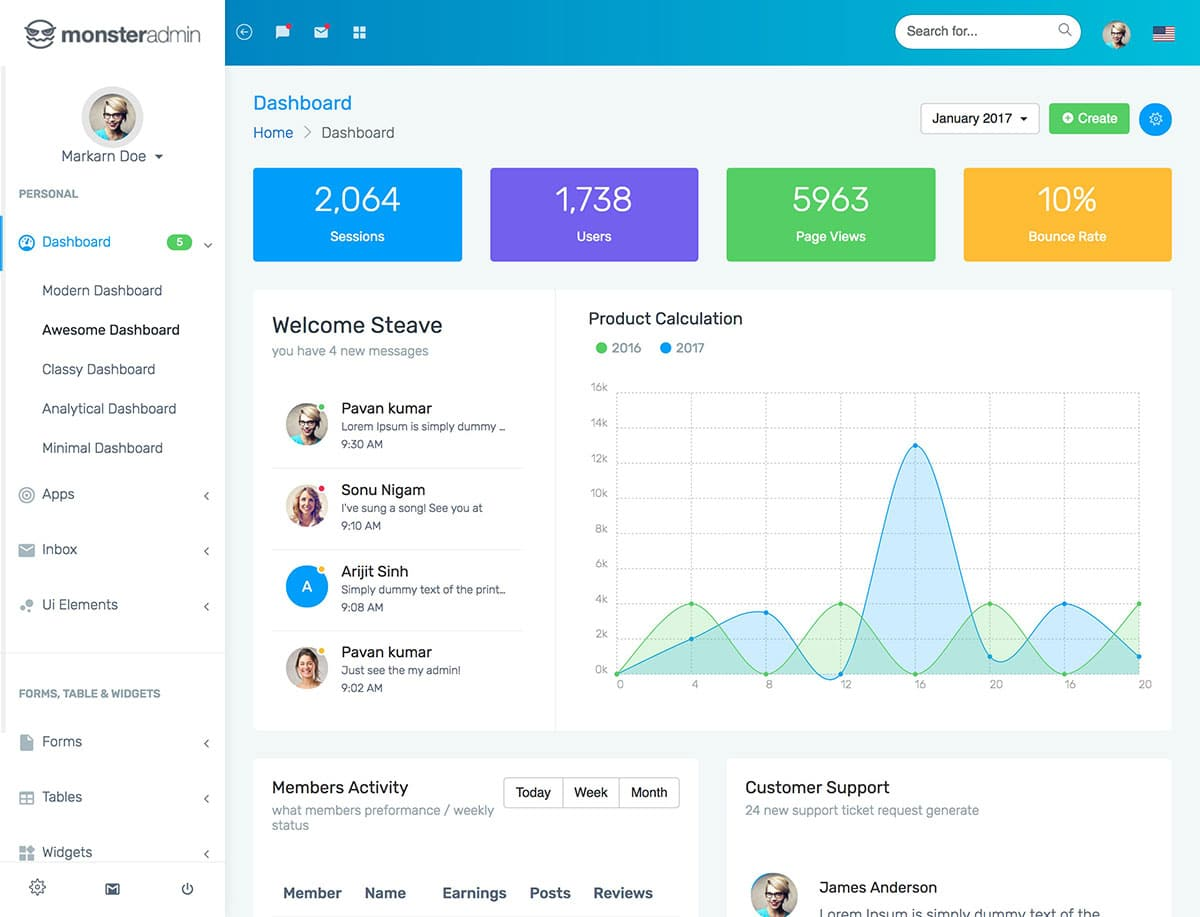button: (1045, 103, 1133, 140), (1133, 94, 1180, 151)
dropdown: (919, 105, 1042, 133)
